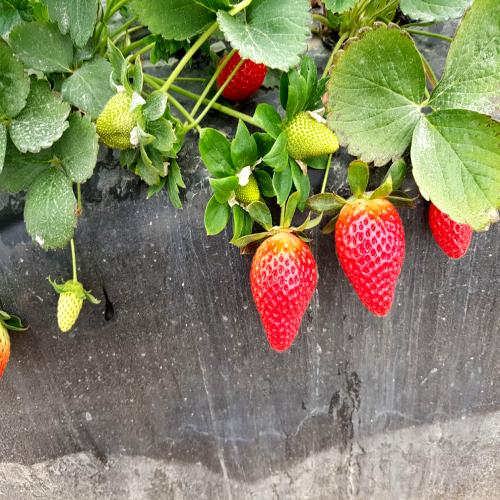ripe: (249, 217, 316, 342), (340, 188, 400, 310), (428, 176, 477, 274), (216, 39, 269, 101)
unripe: (93, 67, 138, 150), (286, 104, 340, 169), (53, 276, 89, 330)
